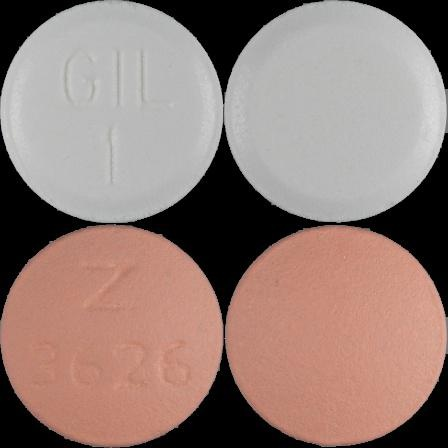68546-229: (0, 0, 224, 224)
